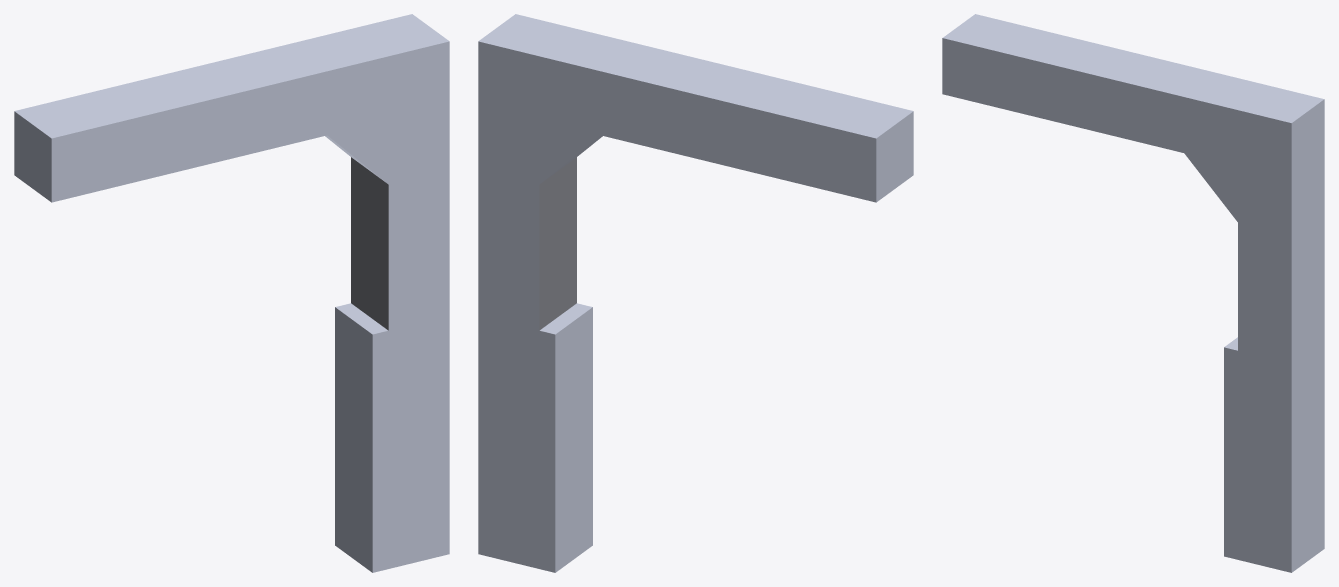
3 renders of one model, left to right at view 1: azimuth 30°, elevation 25°; view 2: azimuth 150°, elevation 25°; view 3: azimuth 330°, elevation 25°, orthographic. The views are drawn at different scales.
Visible parts, largest first — view 1: object_025; view 2: object_025; view 3: object_025.
Boxes of the visible parts, x1,y1,x2,y2 form: object_025: (14, 14, 449, 572); object_025: (478, 14, 913, 572); object_025: (942, 14, 1324, 572).
Size of the model in its own units: 8.12 by 10 by 1.32.
